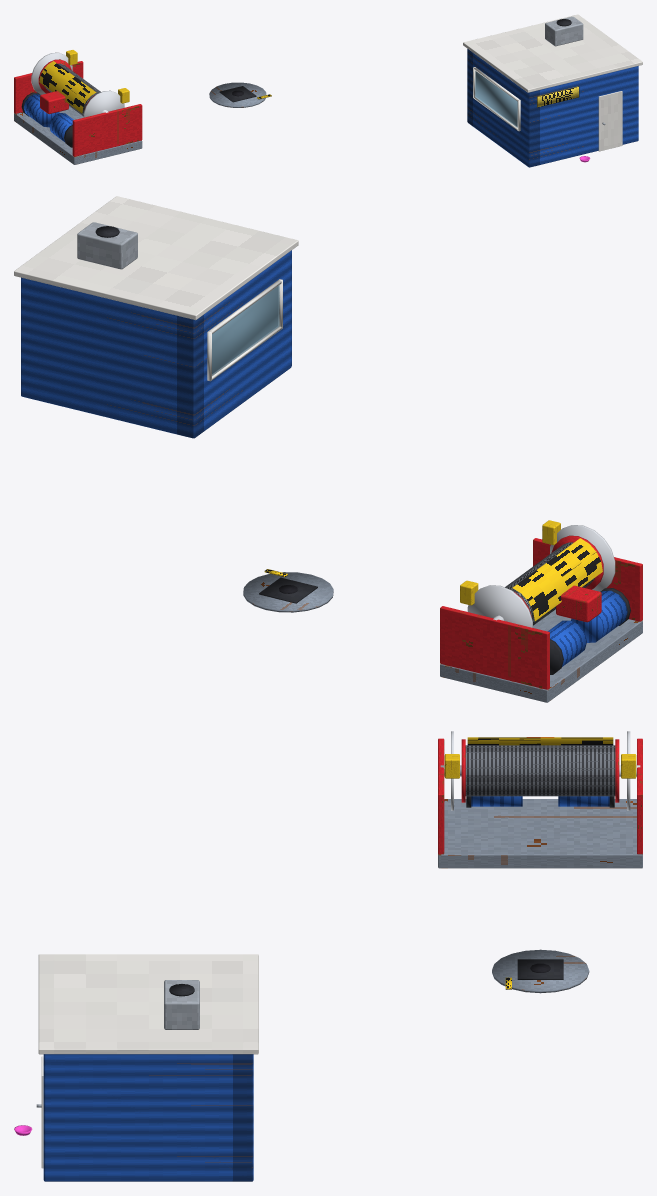
Rendered from p_drillfloor.glb.
3 renders of one model, top to bottom at view 1: azimuth 30°, elevation 25°; view 2: azimuth 150°, elevation 25°; view 3: azimuth 270°, elevation 25°, orthographic. The views are drawn at different scales.
Parts seen in each view (by area): view 1: p_drillfloor_lod0; view 2: p_drillfloor_lod0; view 3: p_drillfloor_lod0.
Boxes of the visible parts, left/top/right/bottom form: p_drillfloor_lod0: left=14, top=14, right=642, bottom=167; p_drillfloor_lod0: left=14, top=196, right=642, bottom=702; p_drillfloor_lod0: left=14, top=731, right=642, bottom=1181.
Size of what is drawn, in the model's own units: 17.22 by 3.56 by 12.28.
Materials: 3 (1 with a texture image).
